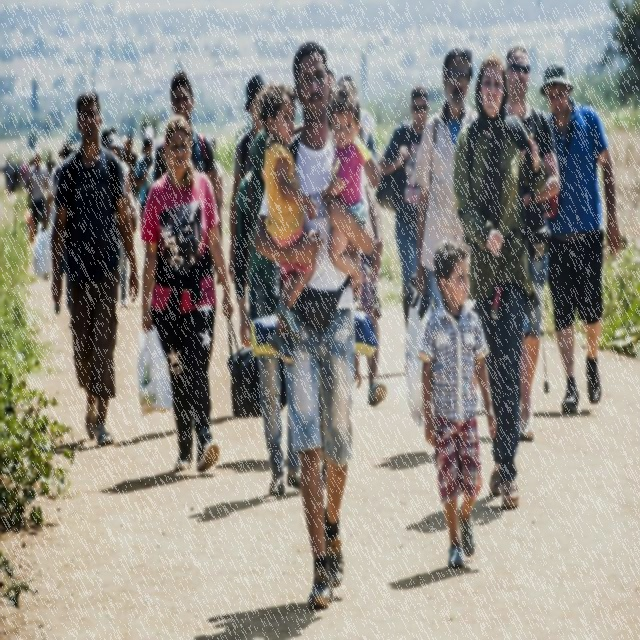pessoa: (249, 34, 388, 614), (448, 50, 552, 522), (0, 100, 228, 262), (140, 113, 233, 473), (51, 90, 140, 448), (538, 59, 624, 414), (413, 238, 498, 573), (232, 128, 302, 498), (503, 44, 563, 440), (254, 80, 320, 366), (414, 44, 480, 310), (379, 84, 432, 342), (152, 68, 224, 248), (318, 82, 373, 298), (226, 70, 268, 294), (340, 264, 389, 408), (40, 144, 79, 316), (105, 132, 138, 308), (336, 74, 380, 160), (132, 137, 156, 256), (26, 151, 49, 233)
